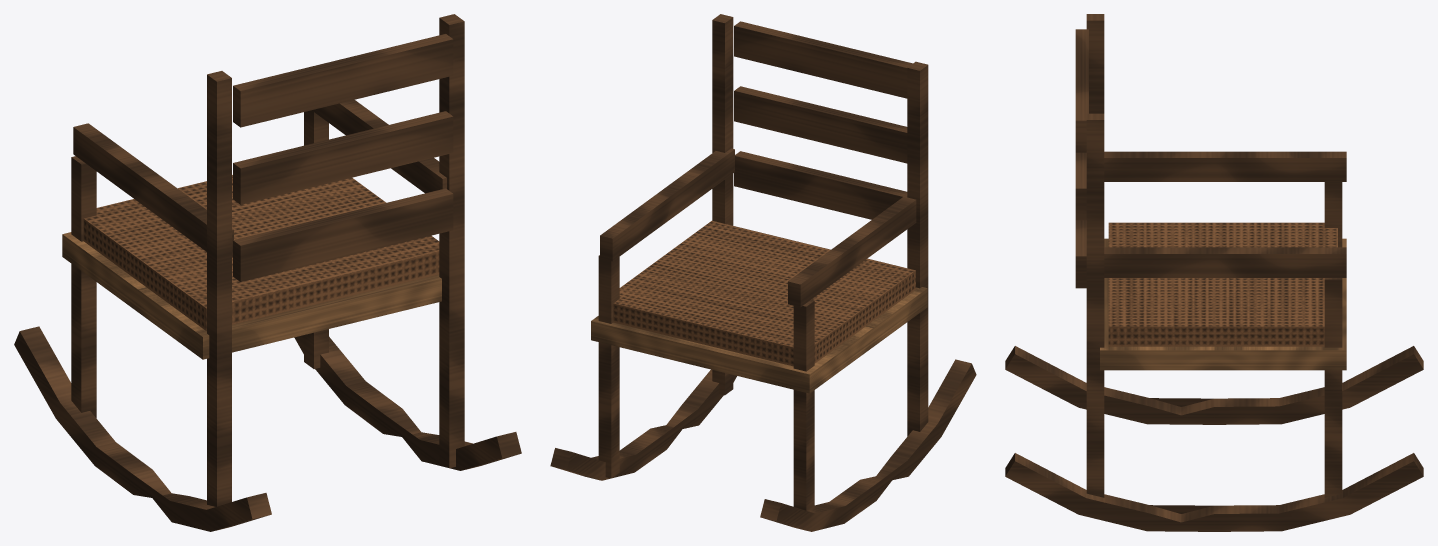
The model's file is rocking_chair.fbx.
3 views of the same model, side by side, from view 1: azimuth 30°, elevation 25°; view 2: azimuth 150°, elevation 25°; view 3: azimuth 270°, elevation 25° (orthographic). The views are drawn at different scales.
Parts seen in each view (by area): view 1: rocking_chair; view 2: rocking_chair; view 3: rocking_chair.
Part boxes in pixels (box(x1,y1,x2,y2)): rocking_chair: box(14, 14, 521, 531); rocking_chair: box(550, 14, 976, 531); rocking_chair: box(1005, 14, 1423, 531).
Size of the model in its own units: 62 by 102 by 95.04.
